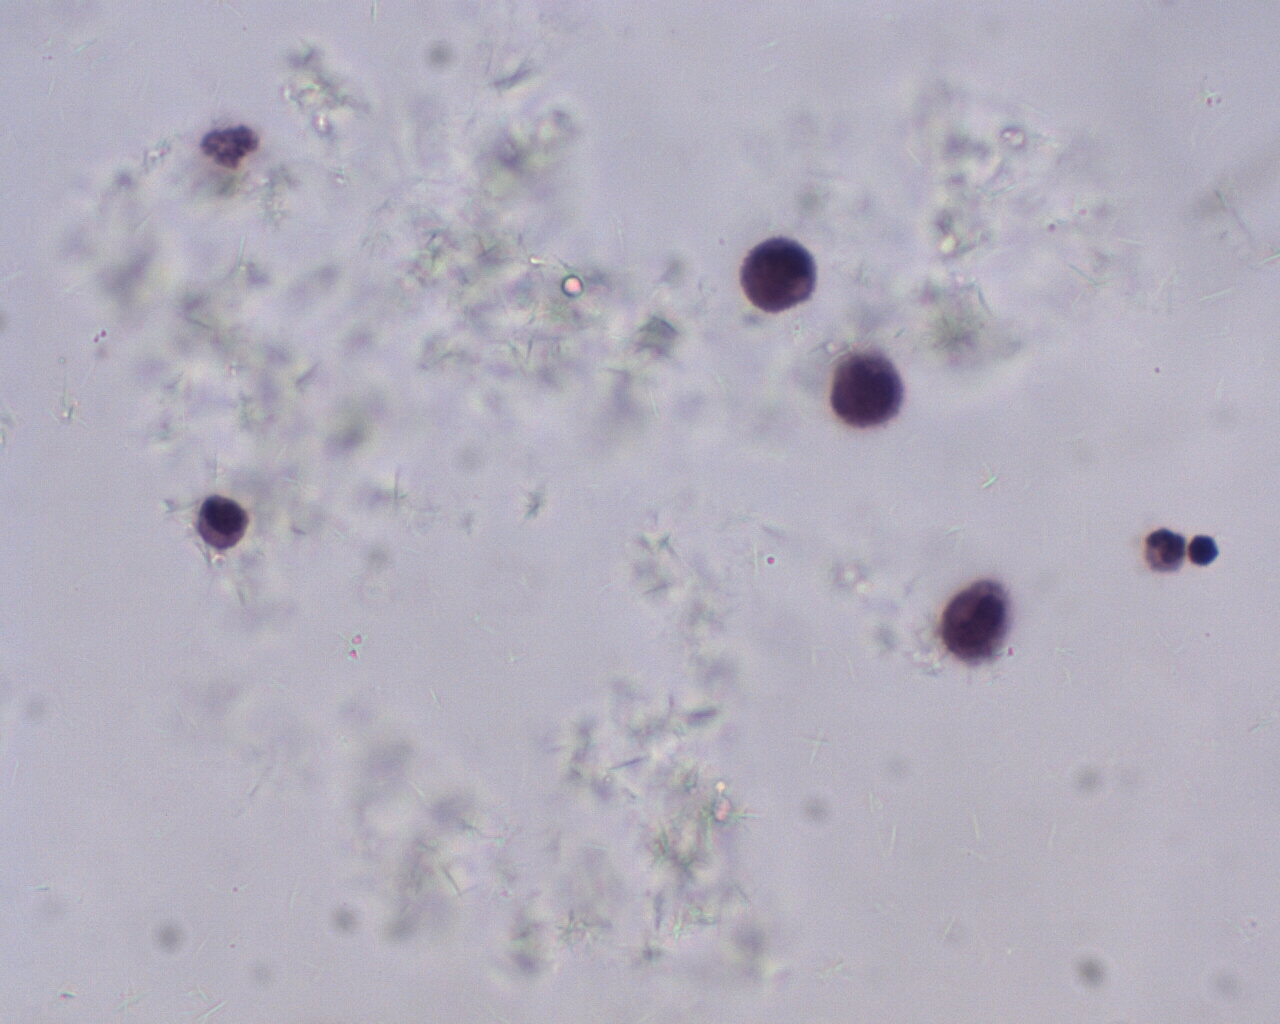ab: (942, 577, 1020, 670), (740, 231, 820, 316), (827, 349, 905, 430)
lymph: (1189, 531, 1218, 566)
neutro: (1146, 527, 1188, 576)
